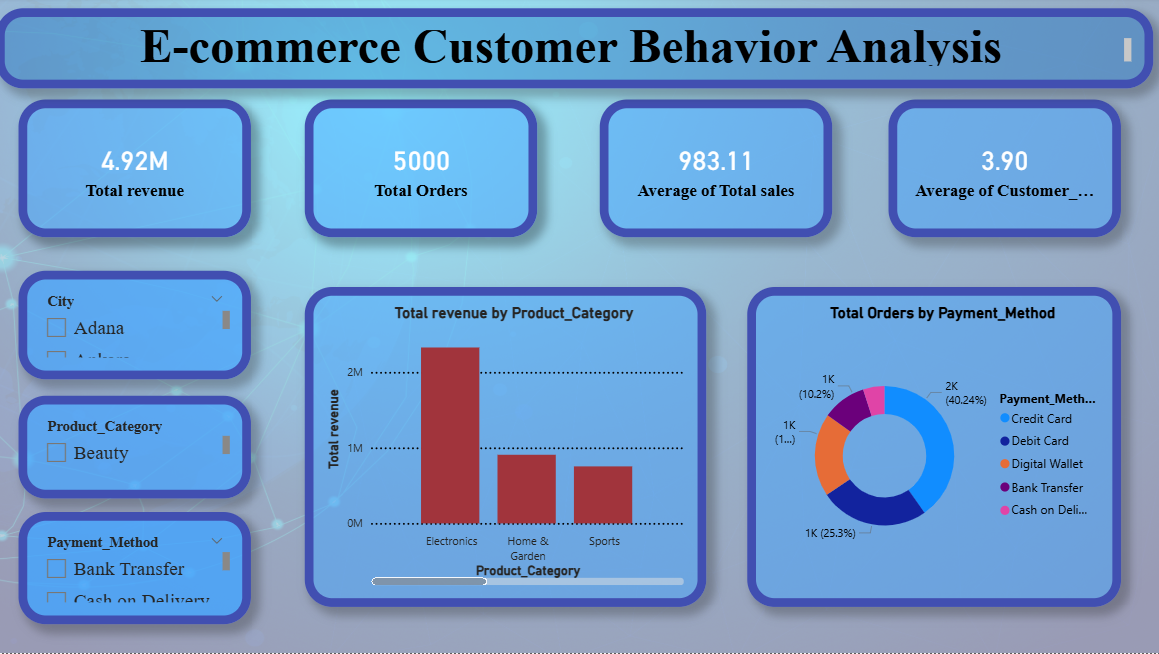

The page's visual inventory and layout, read from the dashboard file:
{"tool":"powerbi","page":{"name":"E-Commerce analysis","canvas":[1280,720],"ordinal":0},"visuals":[{"type":"card","fields":{"Values":["e commerce dataset formet.Total revenue"]},"box":[24.7,112.5,255.2,150.9],"z":0},{"type":"card","fields":{"Values":["e commerce dataset formet.Total Orders"]},"box":[338.9,112.5,255.2,150.9],"z":1000},{"type":"card","fields":{"Values":["Avg(e commerce dataset formet.Total sales)"]},"box":[662.8,112.5,255.2,150.9],"z":2000},{"type":"card","fields":{"Values":["Avg(e commerce dataset formet.Customer_Rating)"]},"box":[979.8,112.5,255.2,150.9],"z":3000},{"type":"textbox","box":[0,12.3,1270.7,87.8],"z":4000},{"type":"clusteredColumnChart","fields":{"Category":["e commerce dataset formet.Product_Category"],"Y":["e commerce dataset formet.Total revenue"]},"box":[338.9,318.4,440.5,351.3],"z":5000},{"type":"donutChart","fields":{"Y":["e commerce dataset formet.Total Orders"],"Category":["e commerce dataset formet.Payment_Method"]},"box":[824.7,318.4,410.3,351.3],"z":6000},{"type":"slicer","fields":{"Values":["e commerce dataset formet.City"]},"box":[24.7,300.5,255.2,119.4],"z":7000},{"type":"slicer","fields":{"Values":["e commerce dataset formet.Product_Category"]},"box":[24.7,437.7,255.2,112.5],"z":8000},{"type":"slicer","fields":{"Values":["e commerce dataset formet.Payment_Method"]},"box":[24.7,565.4,255.2,123.5],"z":9000}]}

Visuals, with their boxes in screenshot pixels (x1, y1, x2, y2), scaled from the page's 1280x720 canvas onto the 1159x654 screenshot:
card - e commerce dataset formet.Total revenue: rect(22, 102, 253, 239)
card - e commerce dataset formet.Total Orders: rect(307, 102, 538, 239)
card - Avg(e commerce dataset formet.Total sales): rect(600, 102, 831, 239)
card - Avg(e commerce dataset formet.Customer_Rating): rect(887, 102, 1118, 239)
textbox: rect(0, 11, 1151, 91)
clusteredColumnChart - e commerce dataset formet.Product_Category x e commerce dataset formet.Total revenue: rect(307, 289, 706, 608)
donutChart - e commerce dataset formet.Total Orders x e commerce dataset formet.Payment_Method: rect(747, 289, 1118, 608)
slicer - e commerce dataset formet.City: rect(22, 273, 253, 381)
slicer - e commerce dataset formet.Product_Category: rect(22, 398, 253, 500)
slicer - e commerce dataset formet.Payment_Method: rect(22, 514, 253, 626)
